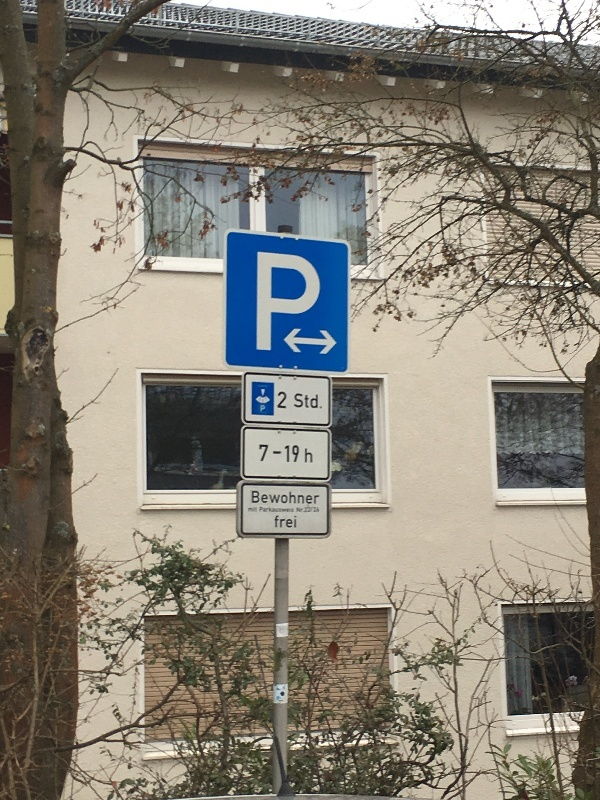text: (257, 250, 272, 353), (273, 250, 288, 353), (289, 250, 304, 353), (305, 250, 320, 353), (305, 393, 320, 409), (260, 444, 272, 463), (305, 448, 320, 463), (289, 445, 300, 463), (257, 491, 272, 504), (273, 491, 288, 504), (289, 491, 304, 504), (305, 491, 320, 504), (278, 391, 288, 410), (275, 514, 288, 528), (295, 393, 304, 409), (305, 504, 320, 513), (289, 514, 297, 528), (273, 506, 288, 513), (321, 250, 322, 353), (261, 405, 272, 413), (260, 506, 272, 513), (285, 445, 288, 463), (252, 491, 256, 504), (274, 451, 288, 454), (249, 507, 256, 513), (289, 506, 294, 513), (297, 507, 304, 512), (321, 393, 322, 409), (257, 507, 258, 513)
